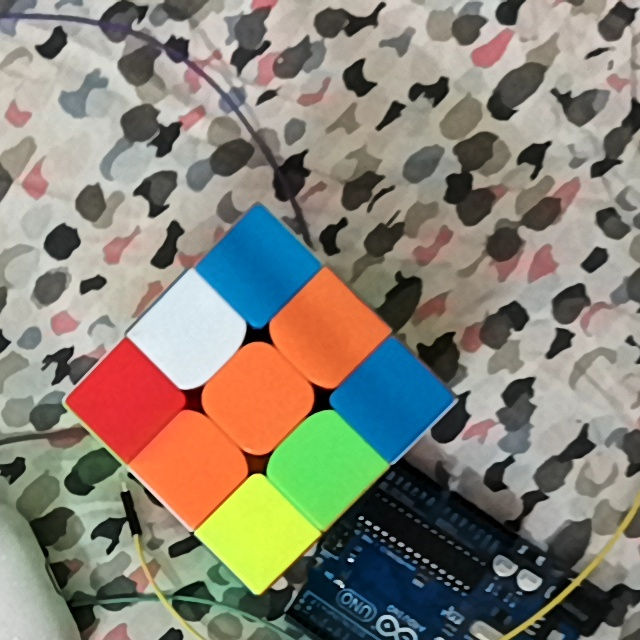tile: (357, 367, 427, 428), (225, 366, 288, 431), (224, 238, 290, 299), (290, 436, 355, 497), (157, 305, 220, 365), (299, 298, 358, 362), (160, 439, 224, 497), (96, 371, 158, 429), (226, 505, 286, 561)
